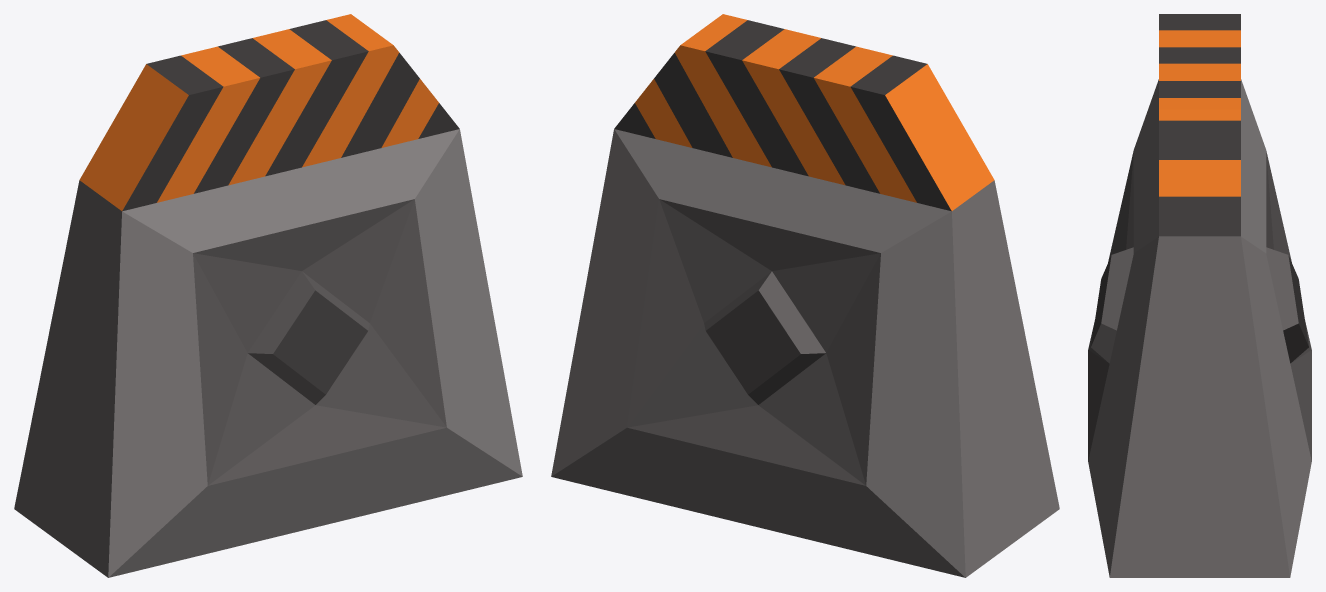
The model's file is scifi_scifi-barrier-small.fbx.
The picture shows the model from 3 angles, left to right: view 1: azimuth 30°, elevation 25°; view 2: azimuth 150°, elevation 25°; view 3: azimuth 270°, elevation 25°; orthographic projection. The views are drawn at different scales.
Visible parts, largest first — view 1: scifi_scifi_barrier_small; view 2: scifi_scifi_barrier_small; view 3: scifi_scifi_barrier_small.
Part boxes in pixels (x1=…): scifi_scifi_barrier_small: x1=14, y1=14, x2=522, y2=577; scifi_scifi_barrier_small: x1=551, y1=14, x2=1059, y2=577; scifi_scifi_barrier_small: x1=1088, y1=14, x2=1311, y2=577.
Size of the model in its own units: 198 by 200 by 96.58.
